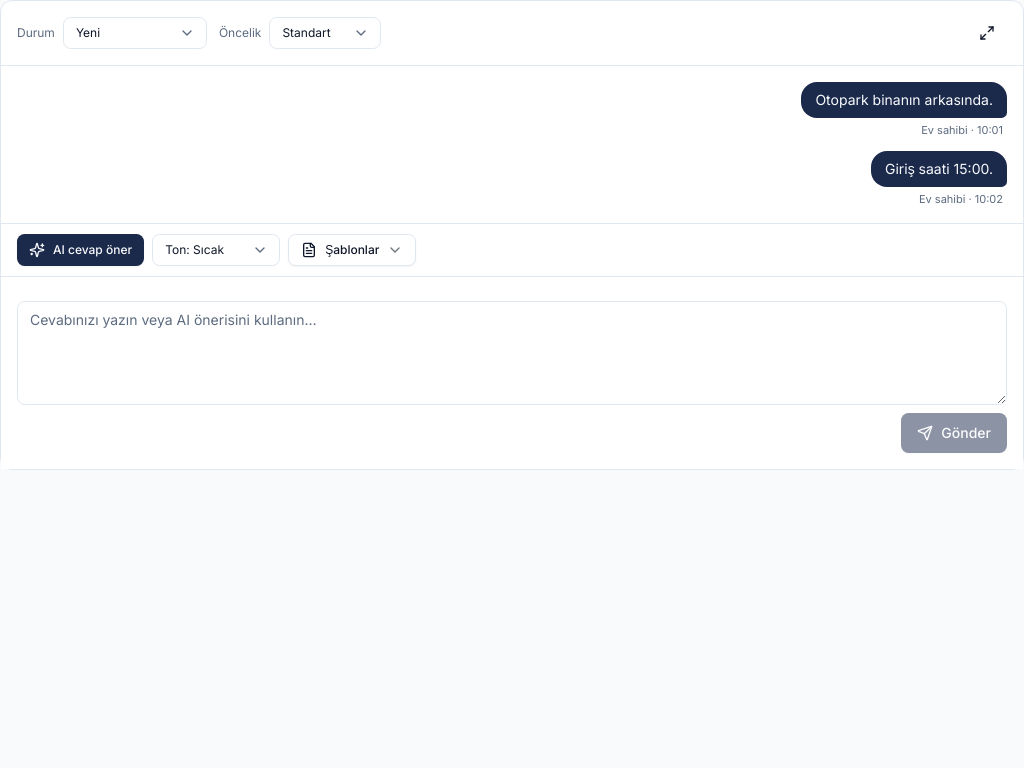
konuşma ekranı — daha eski mesajlar › son misafir mesajı pencerenin dışında: 'AI öner' sonucu yenilemede aynı mesajın kayıtlı taslağıyla EZİLMEZ
Later steps or results of the test are not shown.
Click the button "AI cevap öner": (81,250) left=17, top=234, right=144, bottom=266
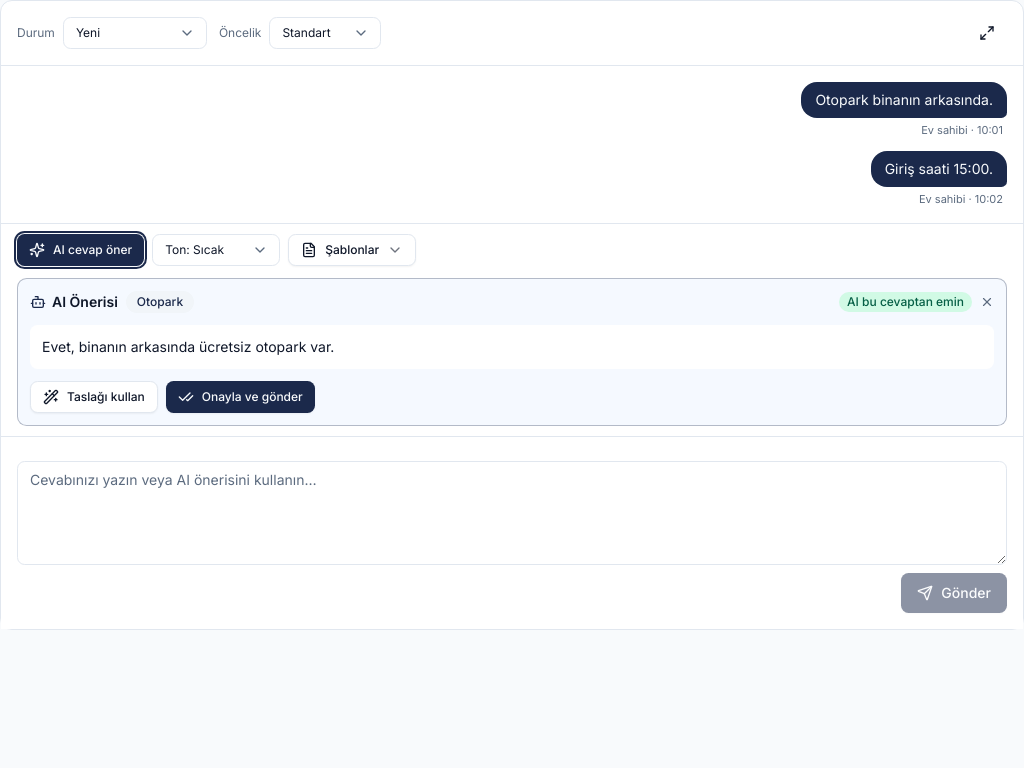
Expected: the text "Evet, binanın arkasında ücretsiz otopark var." is shown, left=30, top=325, right=994, bottom=369
